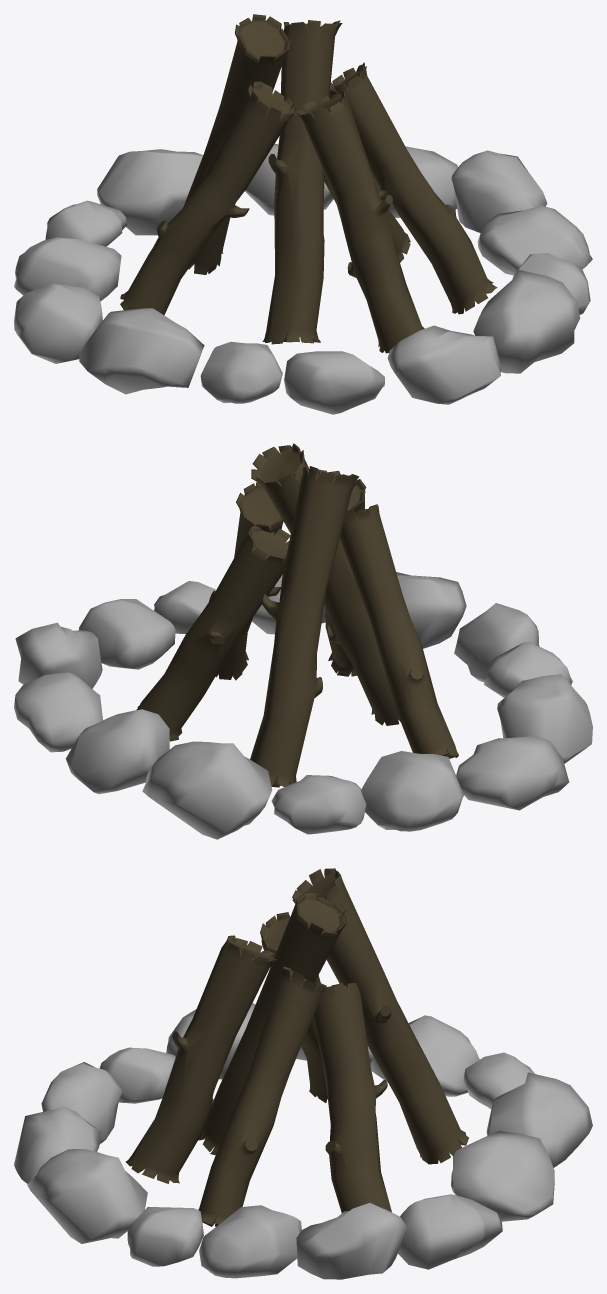
File: mdl_campfire.fbx
The picture shows the model from 3 angles, top to bottom: view 1: azimuth 30°, elevation 25°; view 2: azimuth 150°, elevation 25°; view 3: azimuth 270°, elevation 25°; orthographic projection.
Visible parts, largest first — view 1: SM_Rock, SM_Wood2, SM_Wood3, SM_Wood1, SM_Wood5, SM_Wood, SM_Wood4; view 2: SM_Rock, SM_Wood, SM_Wood1, SM_Wood4, SM_Wood2, SM_Wood5, SM_Wood3; view 3: SM_Rock, SM_Wood3, SM_Wood, SM_Wood4, SM_Wood5, SM_Wood2, SM_Wood1.
Boxes of the visible parts, x1,y1,x2,y2 form: SM_Rock: (14, 143, 592, 414); SM_Wood2: (262, 20, 342, 344); SM_Wood3: (293, 91, 424, 353); SM_Wood1: (120, 81, 295, 315); SM_Wood5: (329, 62, 497, 314); SM_Wood: (184, 14, 290, 274); SM_Wood4: (324, 174, 410, 262); SM_Rock: (14, 572, 592, 839); SM_Wood: (250, 466, 360, 787); SM_Wood1: (339, 504, 458, 758); SM_Wood4: (136, 525, 290, 741); SM_Wood2: (251, 443, 400, 725); SM_Wood5: (209, 482, 283, 680); SM_Wood3: (325, 471, 366, 676); SM_Rock: (14, 1003, 592, 1279); SM_Wood3: (125, 935, 276, 1183); SM_Wood: (292, 868, 468, 1164); SM_Wood4: (313, 982, 391, 1213); SM_Wood5: (198, 966, 326, 1226); SM_Wood2: (198, 892, 346, 1155); SM_Wood1: (260, 912, 327, 1102).
Size of the model in its own units: 1.9 by 1.02 by 1.84.
